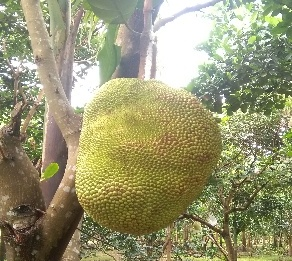Mit: (75, 78, 223, 236)
